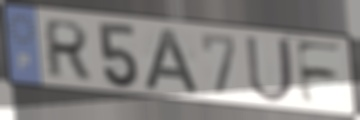5: (95, 20, 140, 90)
7: (198, 31, 239, 98)
A: (142, 26, 203, 96)
F: (293, 38, 345, 107)
R: (44, 18, 92, 81)
U: (243, 33, 297, 105)
